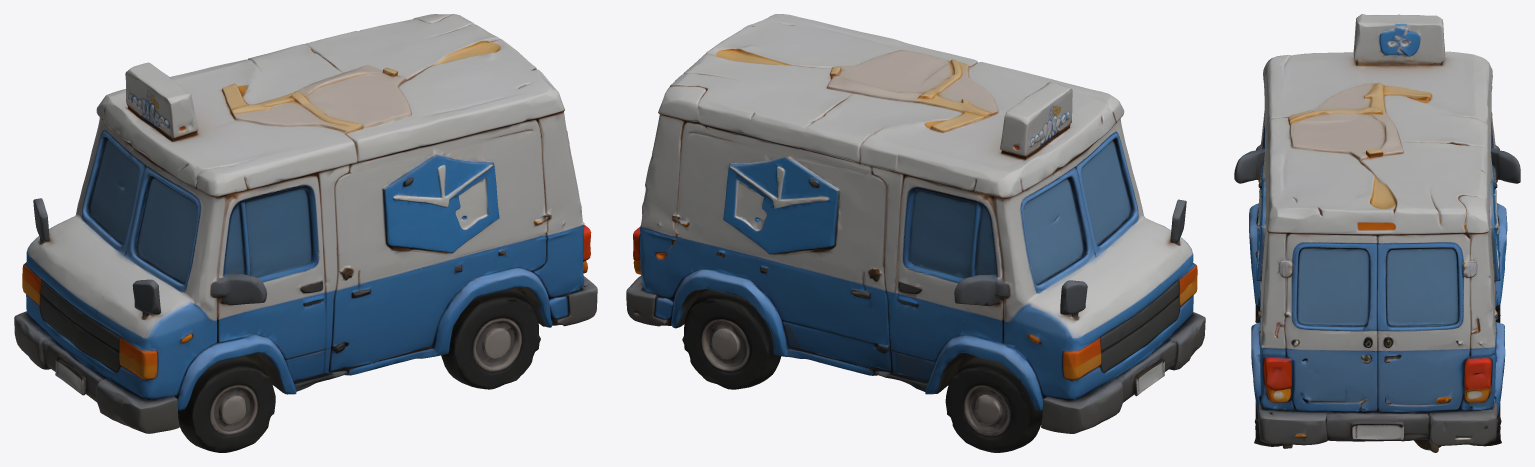
3 views of the same model, side by side, from view 1: azimuth 30°, elevation 25°; view 2: azimuth 150°, elevation 25°; view 3: azimuth 270°, elevation 25° (orthographic). The views are drawn at different scales.
Visible parts, largest first — view 1: tripo_node_4df78af1-cd7c-447f-a525-bbfba77b151c; view 2: tripo_node_4df78af1-cd7c-447f-a525-bbfba77b151c; view 3: tripo_node_4df78af1-cd7c-447f-a525-bbfba77b151c.
Boxes of the visible parts, x1,y1,x2,y2 form: tripo_node_4df78af1-cd7c-447f-a525-bbfba77b151c: (14, 14, 597, 452); tripo_node_4df78af1-cd7c-447f-a525-bbfba77b151c: (626, 14, 1205, 452); tripo_node_4df78af1-cd7c-447f-a525-bbfba77b151c: (1234, 14, 1520, 452).
Size of the model in its own units: 1 by 0.6409 by 0.5538.
Materials: 1 (1 with a texture image).
